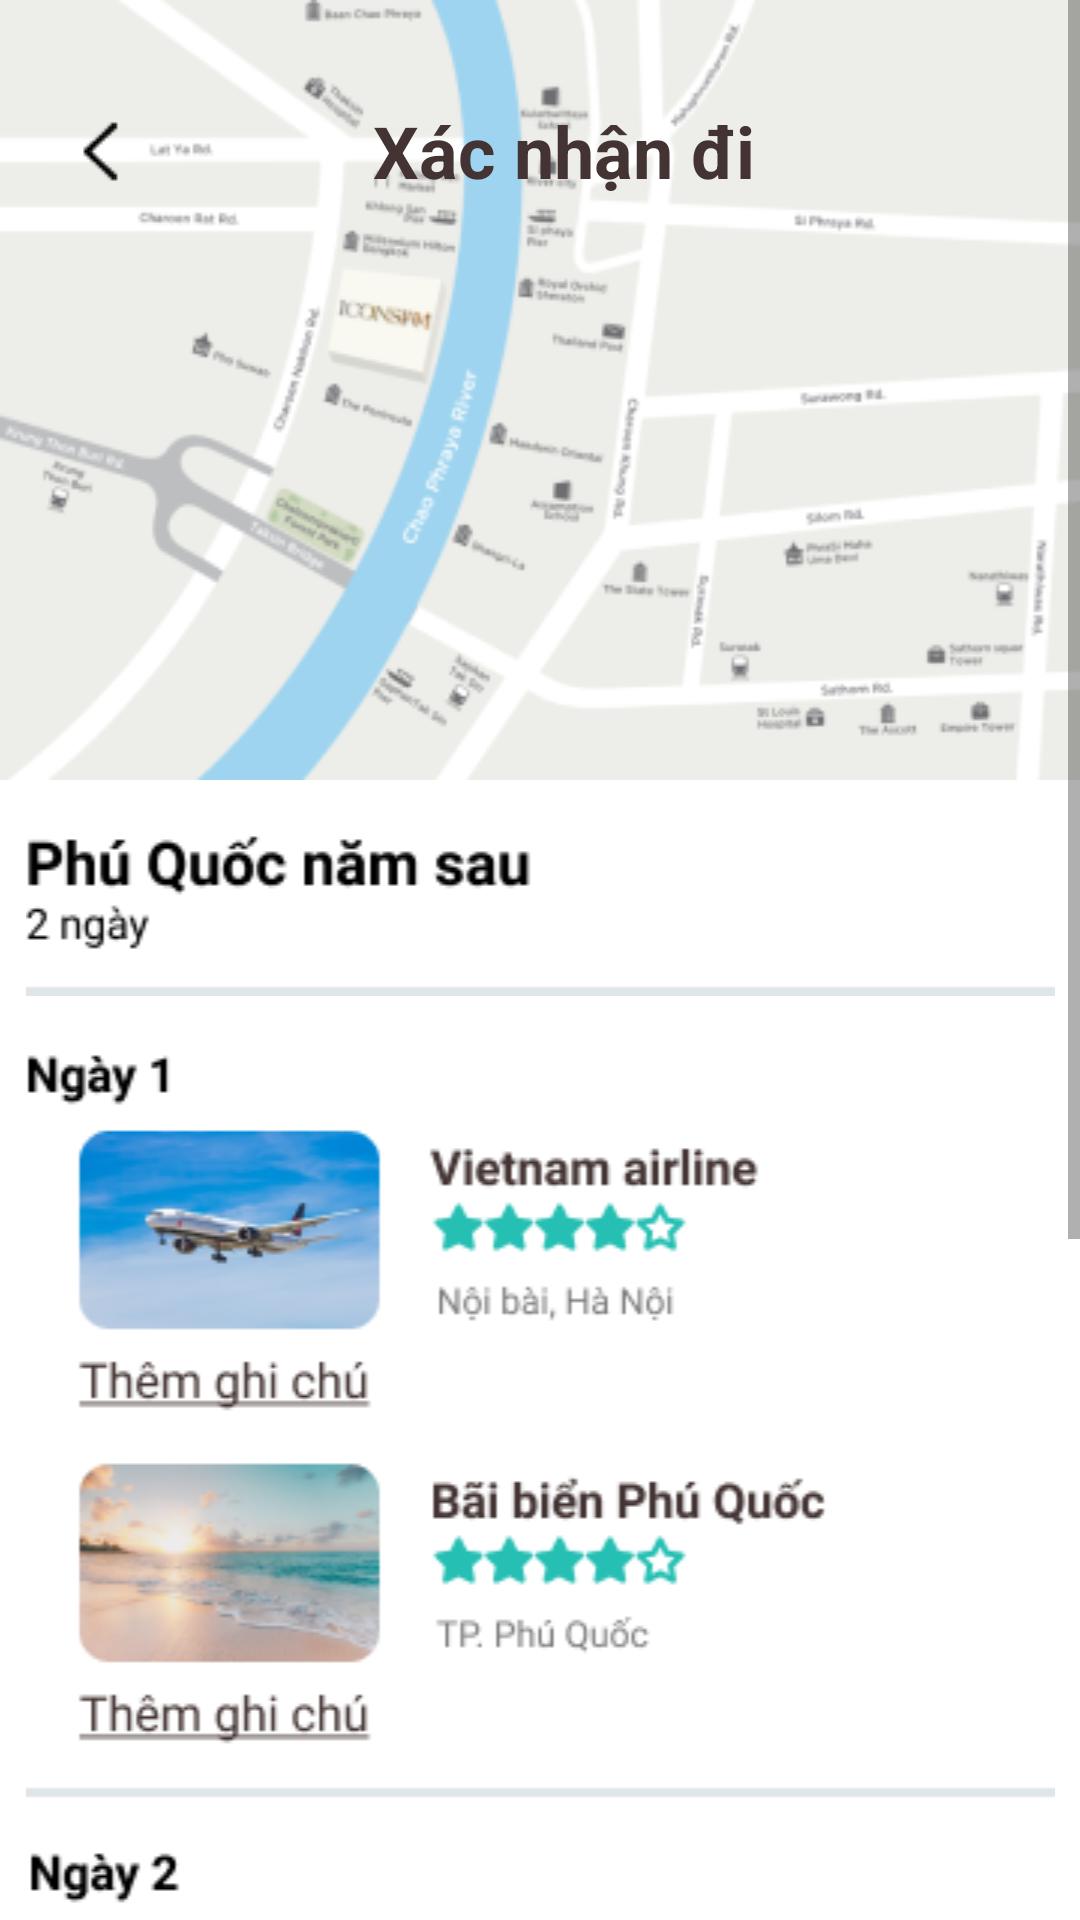

Point at icon controls on the screen. Image size 1080x1920, points as (x=x, y=y).
back: (x=100, y=151)
